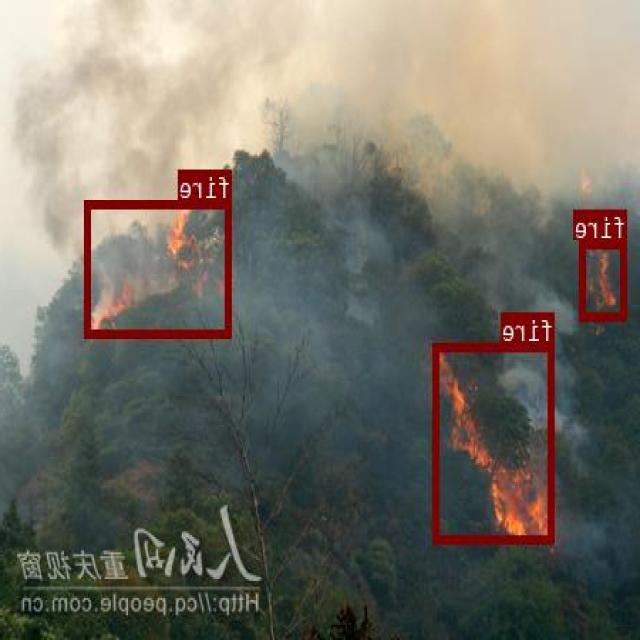fire: (434, 342, 556, 542), (86, 200, 232, 336), (581, 239, 627, 319)
